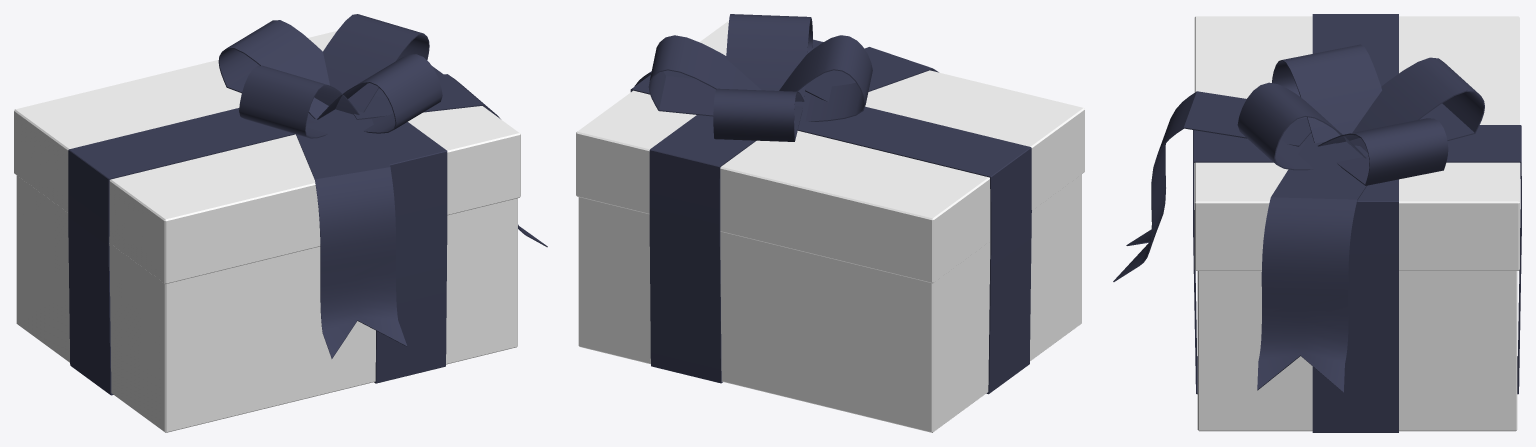
3 views of the same model, side by side, from view 1: azimuth 30°, elevation 25°; view 2: azimuth 150°, elevation 25°; view 3: azimuth 270°, elevation 25° (orthographic). The views are drawn at different scales.
Parts seen in each view (by area): view 1: a162b54f72a015f8066899145788fcfc278e5bf1 > > root > (×2); view 2: a162b54f72a015f8066899145788fcfc278e5bf1 > > root > (×2); view 3: a162b54f72a015f8066899145788fcfc278e5bf1 > > root > (×2).
Part boxes in pixels (box(x1,y1,x2,y2)): a162b54f72a015f8066899145788fcfc278e5bf1 > > root > (×2): box(14, 14, 547, 432); a162b54f72a015f8066899145788fcfc278e5bf1 > > root > (×2): box(576, 14, 1084, 432); a162b54f72a015f8066899145788fcfc278e5bf1 > > root > (×2): box(1113, 14, 1521, 432).
Bounding box in the file's own units: 0.3702 × 0.2286 × 0.2924.
